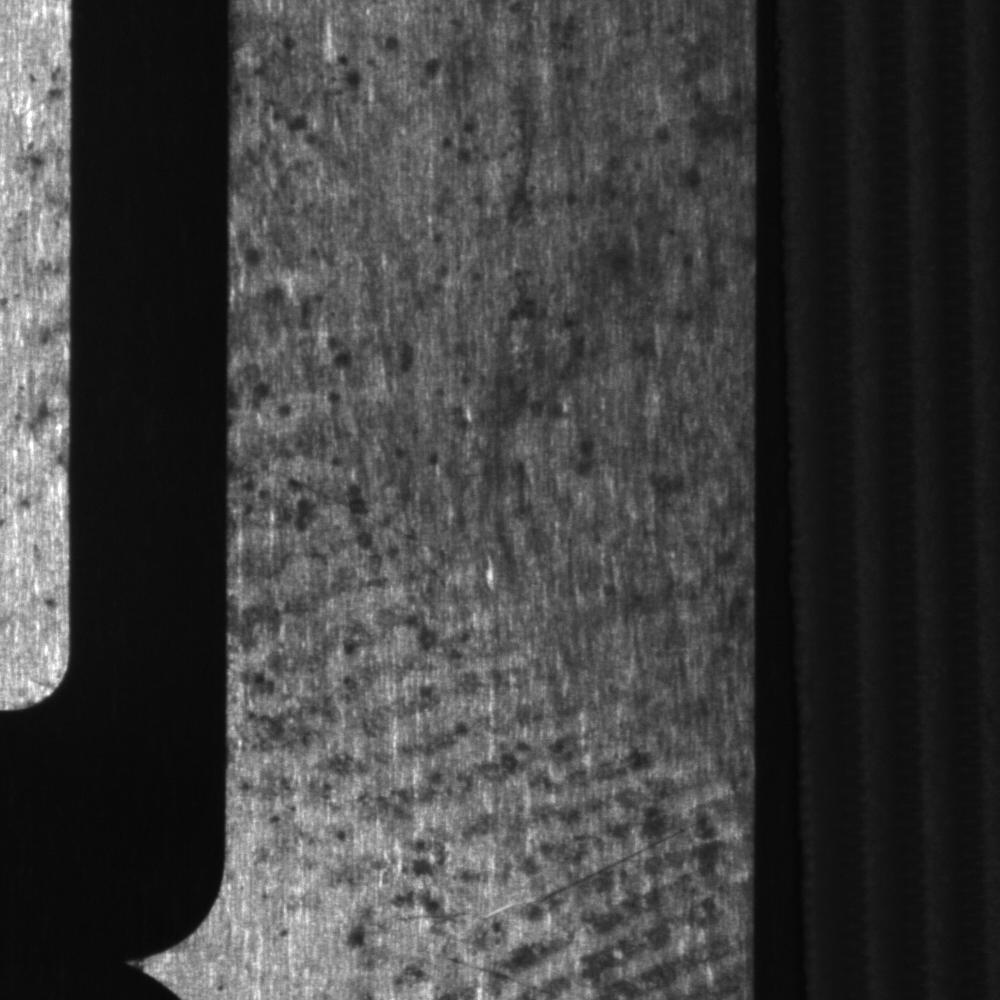Discolor: (255, 640, 751, 997), (234, 257, 754, 570), (233, 1, 752, 251), (3, 14, 68, 648)
